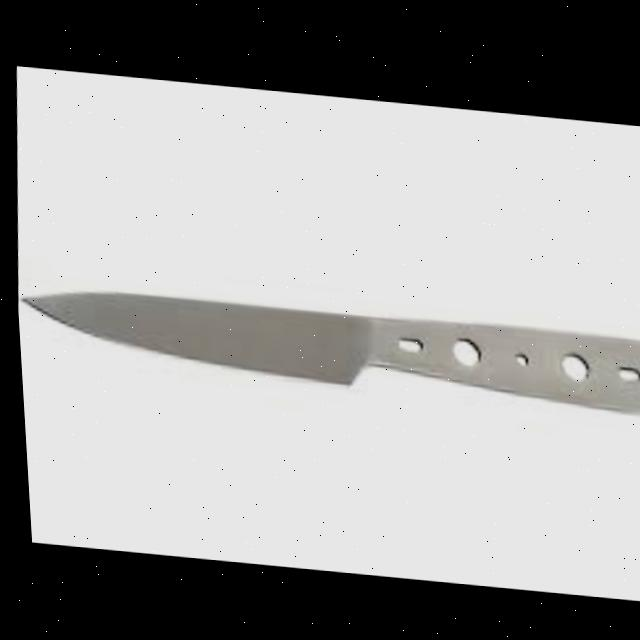knife: (13, 274, 640, 410)
